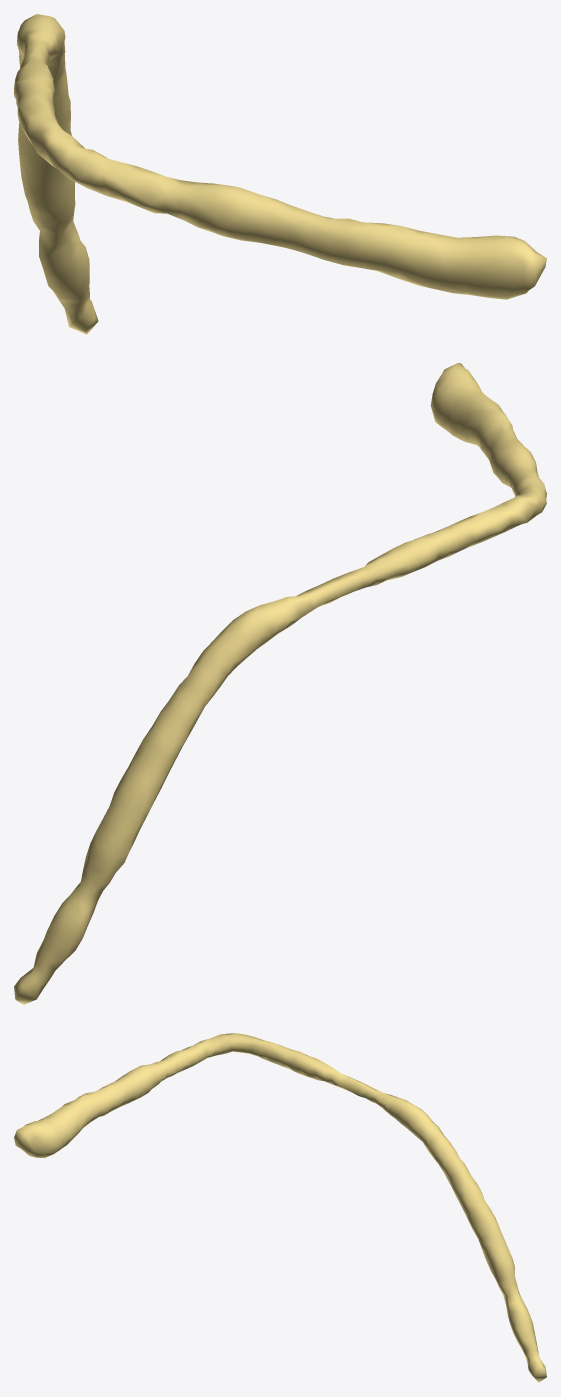
Rendered from fma53230_mm1021.glb.
The picture shows the model from 3 angles, top to bottom: view 1: azimuth 30°, elevation 25°; view 2: azimuth 150°, elevation 25°; view 3: azimuth 270°, elevation 25°; orthographic projection. The views are drawn at different scales.
Visible parts, largest first — view 1: FMA53230_MM1021; view 2: FMA53230_MM1021; view 3: FMA53230_MM1021.
Boxes of the visible parts, box(x1,y1,x2,y2) form: FMA53230_MM1021: box(14, 14, 546, 334); FMA53230_MM1021: box(14, 363, 546, 1004); FMA53230_MM1021: box(14, 1033, 546, 1382).
Size of the model in its own units: 0.00518 by 0.00707 by 0.013.
